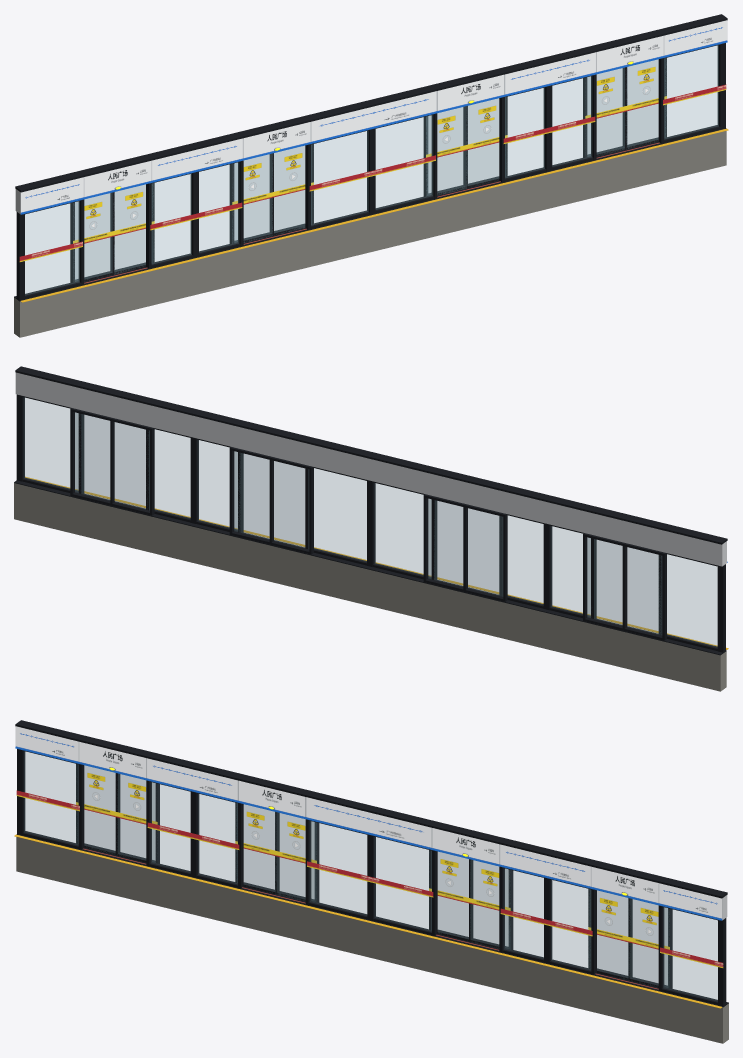
Rendered from PlatformEdge.glb.
3 views of the same model, one above another, from view 1: azimuth 30°, elevation 25°; view 2: azimuth 150°, elevation 25°; view 3: azimuth 330°, elevation 25° (orthographic).
Visible parts, largest first — view 1: psd-fixed-glass (×5), psd-concrete-foundation, psd-door-glass (×8), psd-route-header (×5), psd-station-header (×4), platform-edge-black-001, psd-section-pillar (×4), psd-fixed-post (×4), psd-threshold, platform-yellow-line, psd-fixed-band (×3), psd-line-colour-band (+1 smaller); view 2: psd-fixed-glass (×5), psd-concrete-foundation, psd-door-glass (×8), psd-info-housing, platform-edge-black-001, psd-threshold, psd-section-pillar (×3), platform-yellow-line, psd-fixed-post (×2), platform-edge-black-007; view 3: psd-fixed-glass (×5), psd-concrete-foundation, psd-door-glass (×8), psd-route-header (×5), psd-station-header (×4), platform-edge-black-001, psd-section-pillar (×4), psd-fixed-post (×4), psd-threshold, platform-yellow-line, psd-fixed-band (×3), psd-line-colour-band (+1 smaller).
Part boxes in pixels (x1,y1,x2,y2): psd-fixed-glass (×5): (25, 45, 718, 294); psd-concrete-foundation: (14, 131, 726, 337); psd-door-glass (×8): (75, 59, 666, 281); psd-route-header (×5): (20, 20, 727, 213); psd-station-header (×4): (84, 35, 663, 197); platform-edge-black-001: (15, 14, 727, 192); psd-section-pillar (×4): (190, 43, 723, 257); psd-fixed-post (×4): (16, 58, 664, 300); psd-threshold: (14, 125, 726, 301); platform-yellow-line: (20, 128, 728, 302); psd-fixed-band (×3): (150, 116, 595, 230); psd-line-colour-band: (20, 41, 727, 214); psd-fixed-glass (×5): (24, 397, 717, 646); psd-concrete-foundation: (14, 483, 726, 691); psd-door-glass (×8): (75, 412, 661, 634); psd-info-housing: (15, 372, 726, 566); platform-edge-black-001: (15, 366, 727, 544); psd-threshold: (14, 480, 726, 655); psd-section-pillar (×3): (190, 437, 552, 610); platform-yellow-line: (25, 476, 728, 649); psd-fixed-post (×2): (78, 413, 437, 580); platform-edge-black-007: (314, 548, 431, 579); psd-fixed-glass (×5): (24, 751, 717, 1000); psd-concrete-foundation: (16, 837, 728, 1043); psd-door-glass (×8): (76, 765, 669, 987); psd-route-header (×5): (15, 726, 722, 919); psd-station-header (×4): (79, 741, 658, 903); platform-edge-black-001: (15, 720, 727, 898); psd-section-pillar (×4): (19, 749, 552, 963); psd-fixed-post (×4): (78, 764, 726, 1006); psd-threshold: (16, 831, 728, 1007); platform-yellow-line: (14, 834, 722, 1008); psd-fixed-band (×3): (147, 822, 592, 936); psd-line-colour-band: (15, 747, 722, 920).
Size of the model in its own units: 20 by 4 by 0.41.
17 materials, 9 textured.
